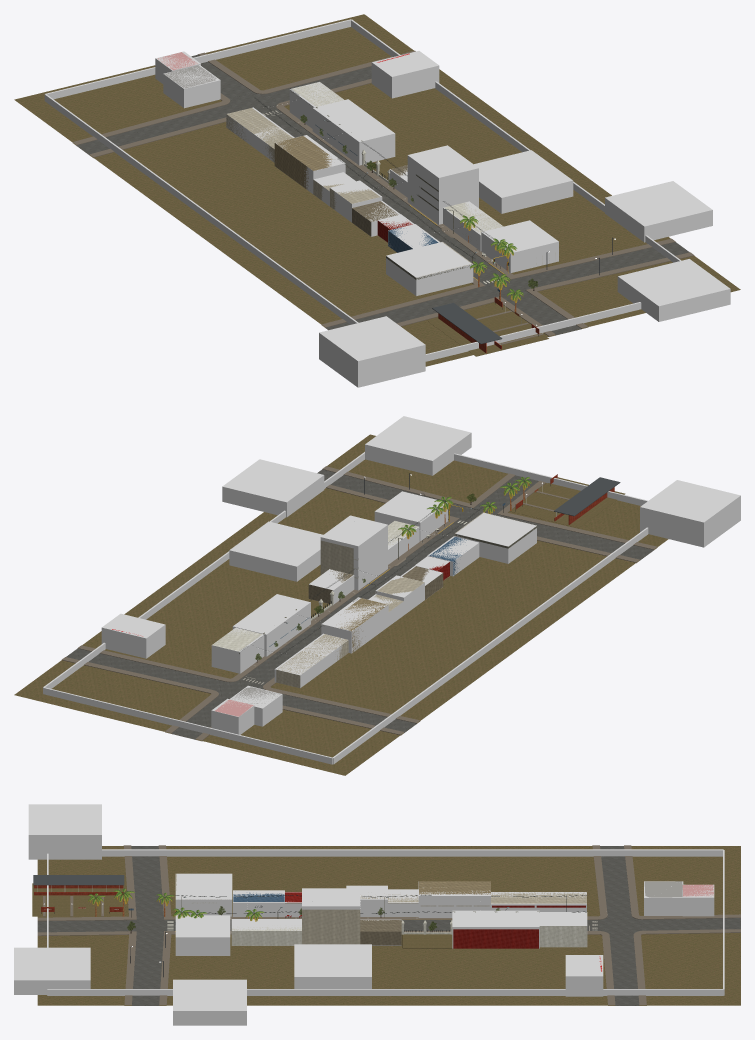
File: san-martin.glb
The picture shows the model from 3 angles, top to bottom: view 1: azimuth 30°, elevation 25°; view 2: azimuth 150°, elevation 25°; view 3: azimuth 270°, elevation 25°; orthographic projection. The views are drawn at different scales.
Parts seen in each view (by area): view 1: TERRENO_BASE.001, CALZADA_-001_-001.001, col_PROVISIONAL_EDIF_18_casa_2p, CALZADA_-001_+000.001, col_PROVISIONAL_EDIF_03_casa_1p, col_PROVISIONAL_EDIF_13_casa_1p, col_PROVISIONAL_EDIF_15_casa_1p, col_SM_Edificio_Balcones, VEREDA_-001_-001.001, SM_Patio_Comidas_Referencia.001, col_SM_Fachada_Roja_Toldos_Azules, col_SM_Esquina_Cubierta_Plana (+23 smaller); view 2: TERRENO_BASE.001, CALZADA_-001_+000.001, CALZADA_-001_-001.001, col_PROVISIONAL_EDIF_18_casa_2p, col_PROVISIONAL_EDIF_03_casa_1p, col_PROVISIONAL_EDIF_13_casa_1p, col_PROVISIONAL_EDIF_15_casa_1p, SM_Patio_Comidas_Referencia.001, VEREDA_-001_+000.001, VEREDA_-001_-001.001, col_SM_Edificio_Balcones, col_limite_lateral_-48 (+24 smaller); view 3: TERRENO_BASE.001, CALZADA_-001_+000.001, CALZADA_-001_-001.001, col_limite_lateral_-48, col_PROVISIONAL_EDIF_18_casa_2p, col_limite_lateral_48, SM_Patio_Comidas_Referencia.001, col_PROVISIONAL_EDIF_15_casa_1p, col_PROVISIONAL_EDIF_13_casa_1p, col_PROVISIONAL_EDIF_03_casa_1p, VEREDA_-001_+000.001, VEREDA_-001_-001.001 (+30 smaller).
Boxes of the visible parts, box(x1,y1,x2,y2) form: TERRENO_BASE.001: box(14, 14, 740, 366); CALZADA_-001_-001.001: box(326, 183, 689, 335); col_PROVISIONAL_EDIF_18_casa_2p: box(319, 316, 425, 387); CALZADA_-001_+000.001: box(77, 54, 378, 188); col_PROVISIONAL_EDIF_03_casa_1p: box(617, 259, 730, 321); col_PROVISIONAL_EDIF_13_casa_1p: box(605, 181, 712, 242); col_PROVISIONAL_EDIF_15_casa_1p: box(474, 150, 573, 213); col_SM_Edificio_Balcones: box(407, 145, 478, 224); VEREDA_-001_-001.001: box(321, 179, 694, 336); SM_Patio_Comidas_Referencia.001: box(427, 297, 548, 356); col_SM_Fachada_Roja_Toldos_Azules: box(312, 99, 395, 165); col_SM_Esquina_Cubierta_Plana: box(386, 242, 473, 296); TERRENO_BASE.001: box(14, 434, 668, 775); CALZADA_-001_+000.001: box(66, 609, 416, 739); CALZADA_-001_-001.001: box(317, 469, 653, 609); col_PROVISIONAL_EDIF_18_casa_2p: box(640, 480, 740, 547); col_PROVISIONAL_EDIF_03_casa_1p: box(365, 416, 471, 475); col_PROVISIONAL_EDIF_13_casa_1p: box(222, 459, 324, 517); col_PROVISIONAL_EDIF_15_casa_1p: box(229, 521, 323, 581); SM_Patio_Comidas_Referencia.001: box(510, 472, 625, 528); VEREDA_-001_+000.001: box(62, 609, 420, 741); VEREDA_-001_-001.001: box(323, 466, 657, 609); col_SM_Edificio_Balcones: box(320, 515, 387, 590); col_limite_lateral_-48: box(332, 527, 648, 764); TERRENO_BASE.001: box(37, 846, 740, 1005); CALZADA_-001_+000.001: box(401, 846, 740, 1005); CALZADA_-001_-001.001: box(37, 846, 408, 1005); col_limite_lateral_-48: box(102, 849, 723, 856); col_PROVISIONAL_EDIF_18_casa_2p: box(28, 804, 101, 859); col_limite_lateral_48: box(47, 989, 723, 995); SM_Patio_Comidas_Referencia.001: box(32, 875, 124, 916); col_PROVISIONAL_EDIF_15_casa_1p: box(294, 944, 371, 988); col_PROVISIONAL_EDIF_13_casa_1p: box(173, 979, 246, 1025); col_PROVISIONAL_EDIF_03_casa_1p: box(14, 947, 90, 994); VEREDA_-001_+000.001: box(388, 845, 740, 1005); VEREDA_-001_-001.001: box(37, 845, 411, 1005).
Size of the model in its own units: 136 by 14.37 by 212.
Materials: 75 (19 with a texture image).
